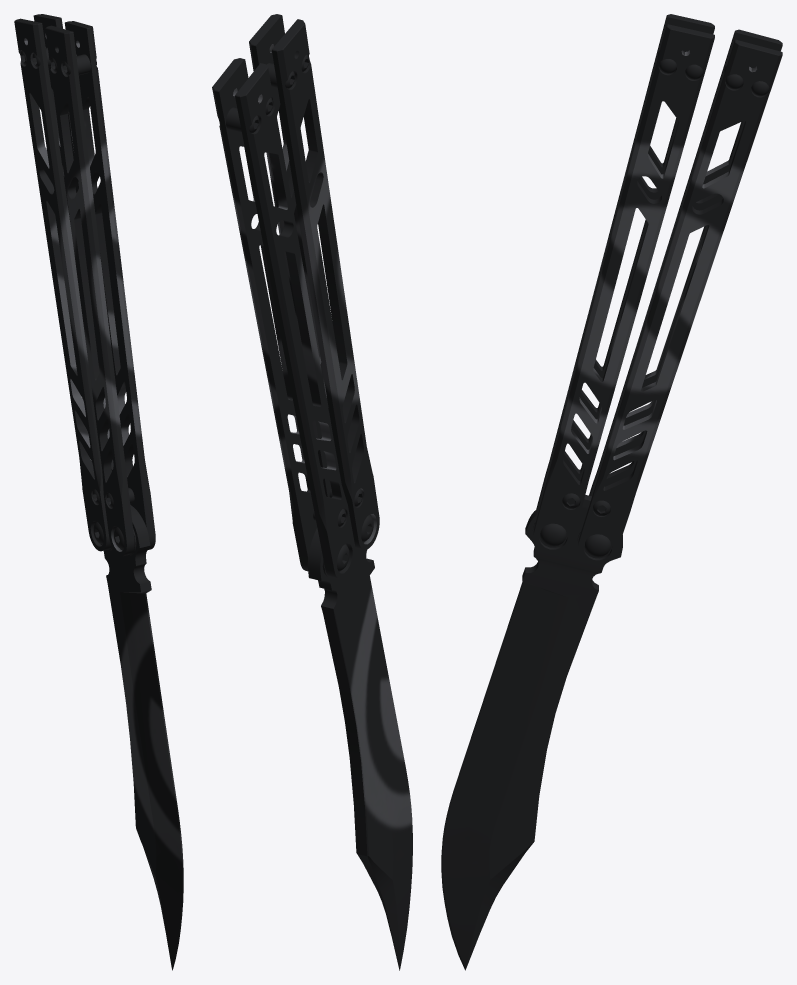
The model's file is butterfly.glb.
3 renders of one model, left to right at view 1: azimuth 30°, elevation 25°; view 2: azimuth 150°, elevation 25°; view 3: azimuth 270°, elevation 25°, orthographic. The views are drawn at different scales.
Parts seen in each view (by area): view 1: Butterfly; view 2: Butterfly; view 3: Butterfly.
Boxes of the visible parts, bbox=[...] form: Butterfly: bbox=[14, 14, 183, 970]; Butterfly: bbox=[212, 14, 412, 970]; Butterfly: bbox=[441, 14, 782, 970].
Size of the model in its own units: 0.0163 by 0.4391 by 0.143.
Materials: 1 (1 with a texture image).
